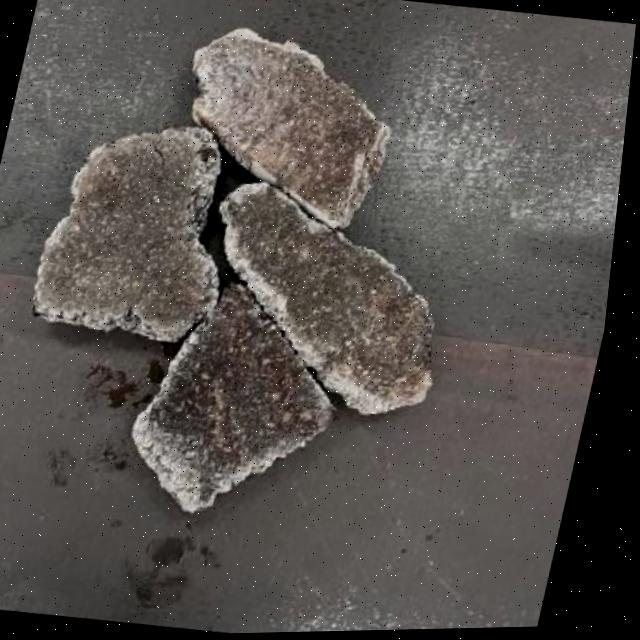Road Debris: (136, 304, 358, 494), (48, 113, 241, 328), (195, 38, 400, 195), (321, 227, 455, 407), (217, 193, 352, 320)
